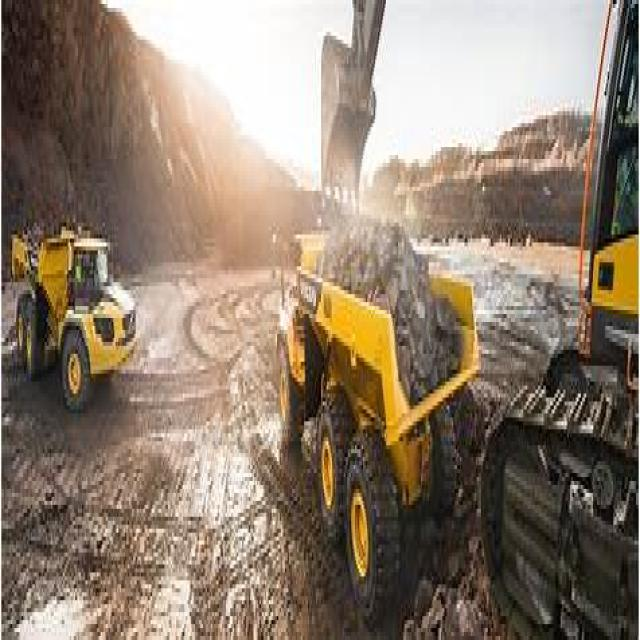dump_truck: (261, 203, 476, 596), (0, 179, 159, 449)
